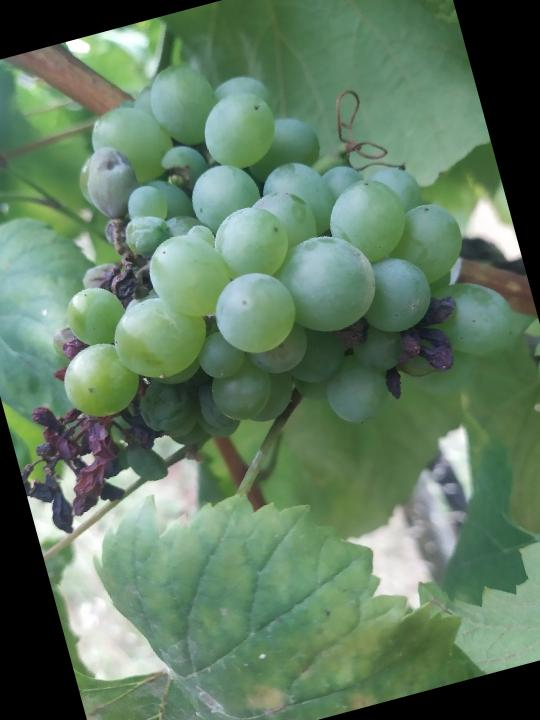grape: (0, 0, 540, 548)
